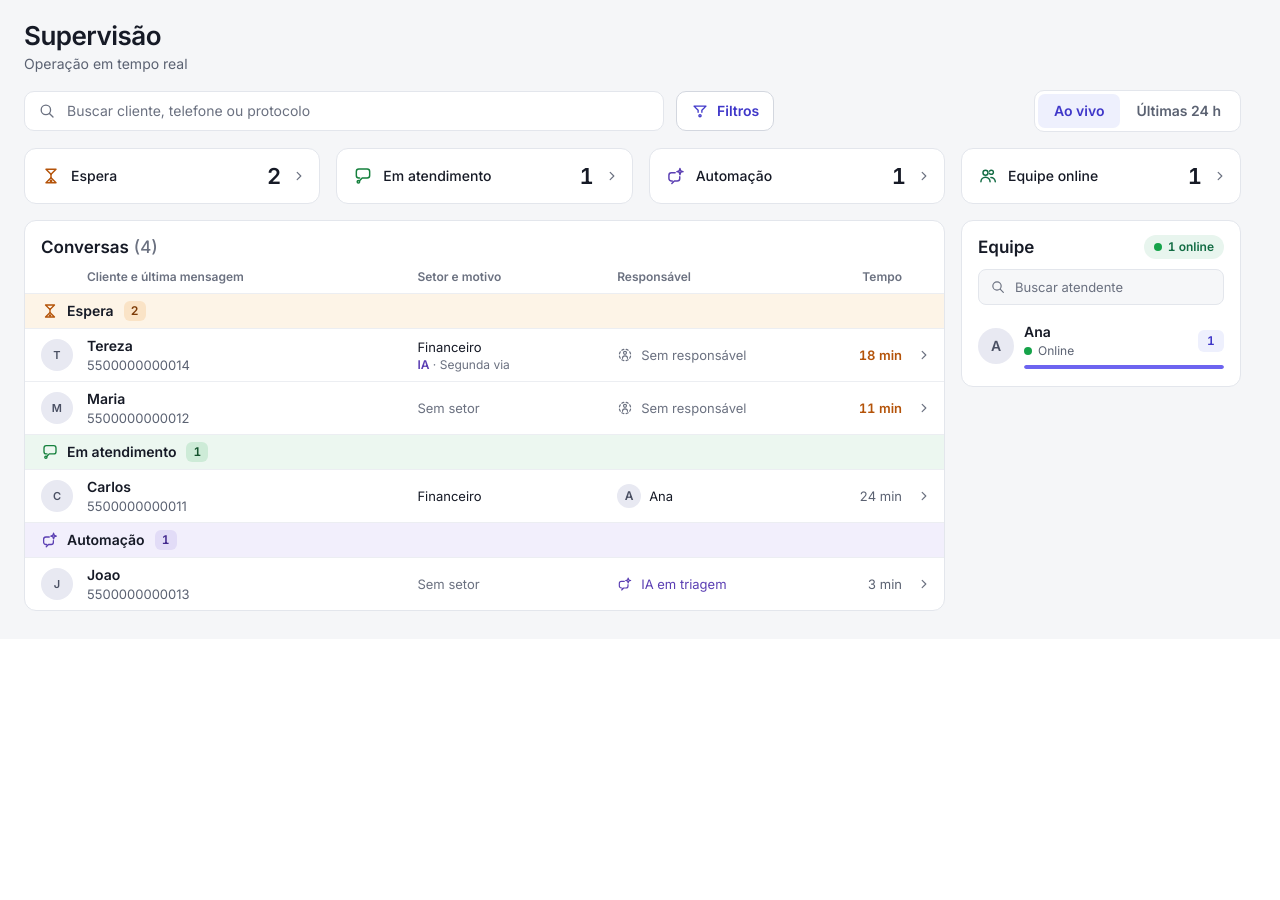
Test case: Supervisão: busca única › por protocolo: Enter abre o atendimento no popup, sem navegar
The width and height of the screenshot is (1280, 900).
Type "20260911-0001" into the search field labelled "Buscar cliente, telefone ou protocolo" at [344, 111], box [24,91,664,131]
Then press Enter
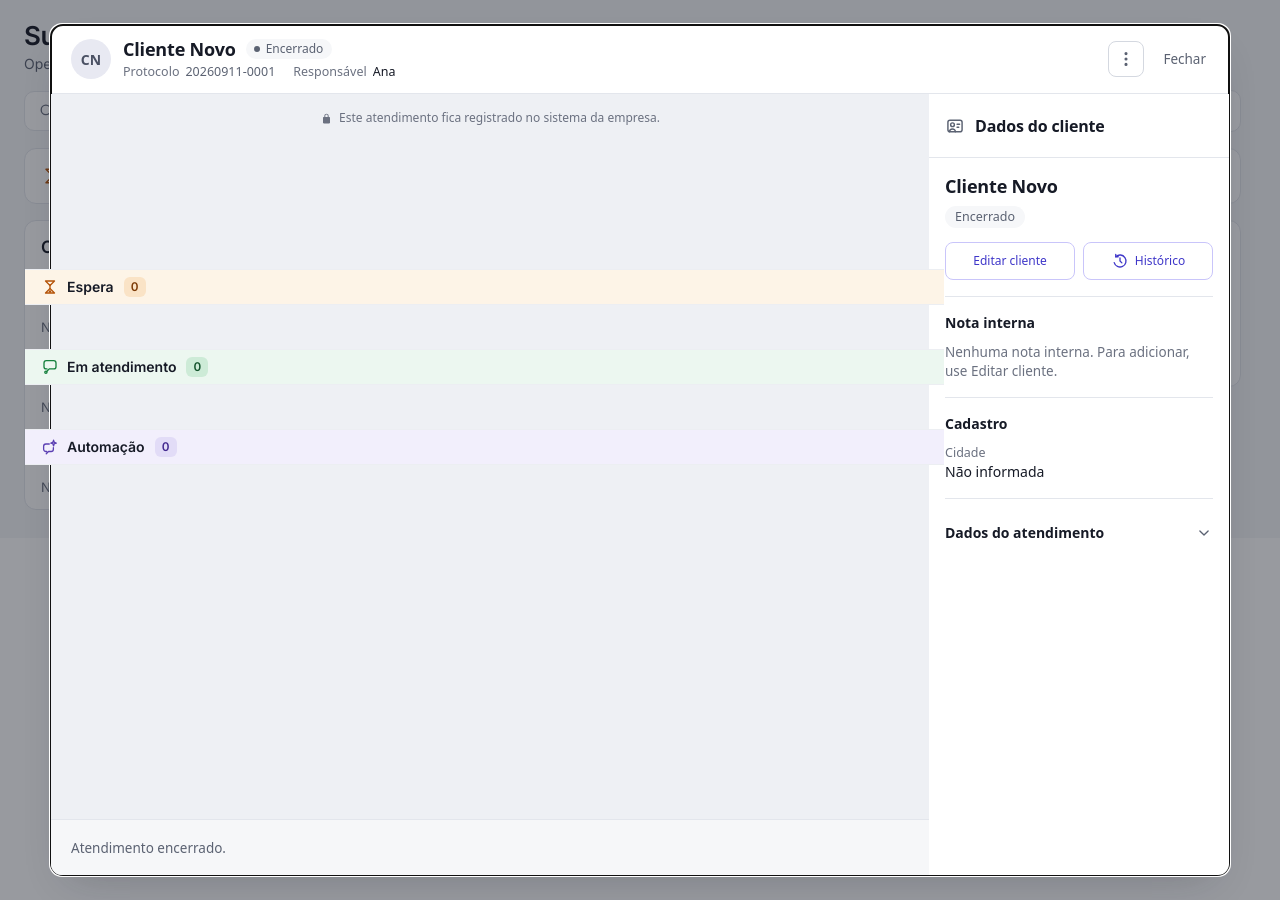
Expected: the dialog named "Conversa com" is shown
